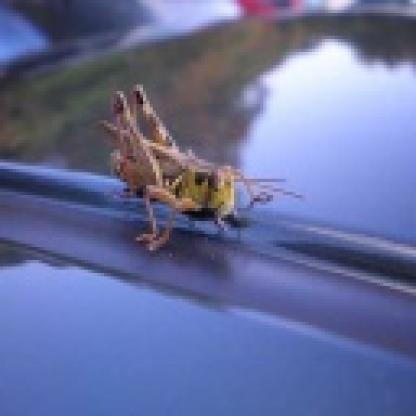grasshopper: (99, 85, 278, 258)
